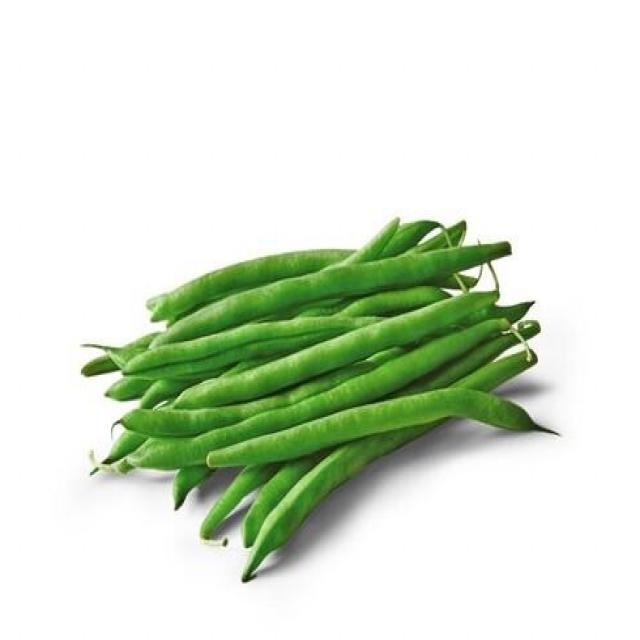Beans: (78, 202, 570, 593)
